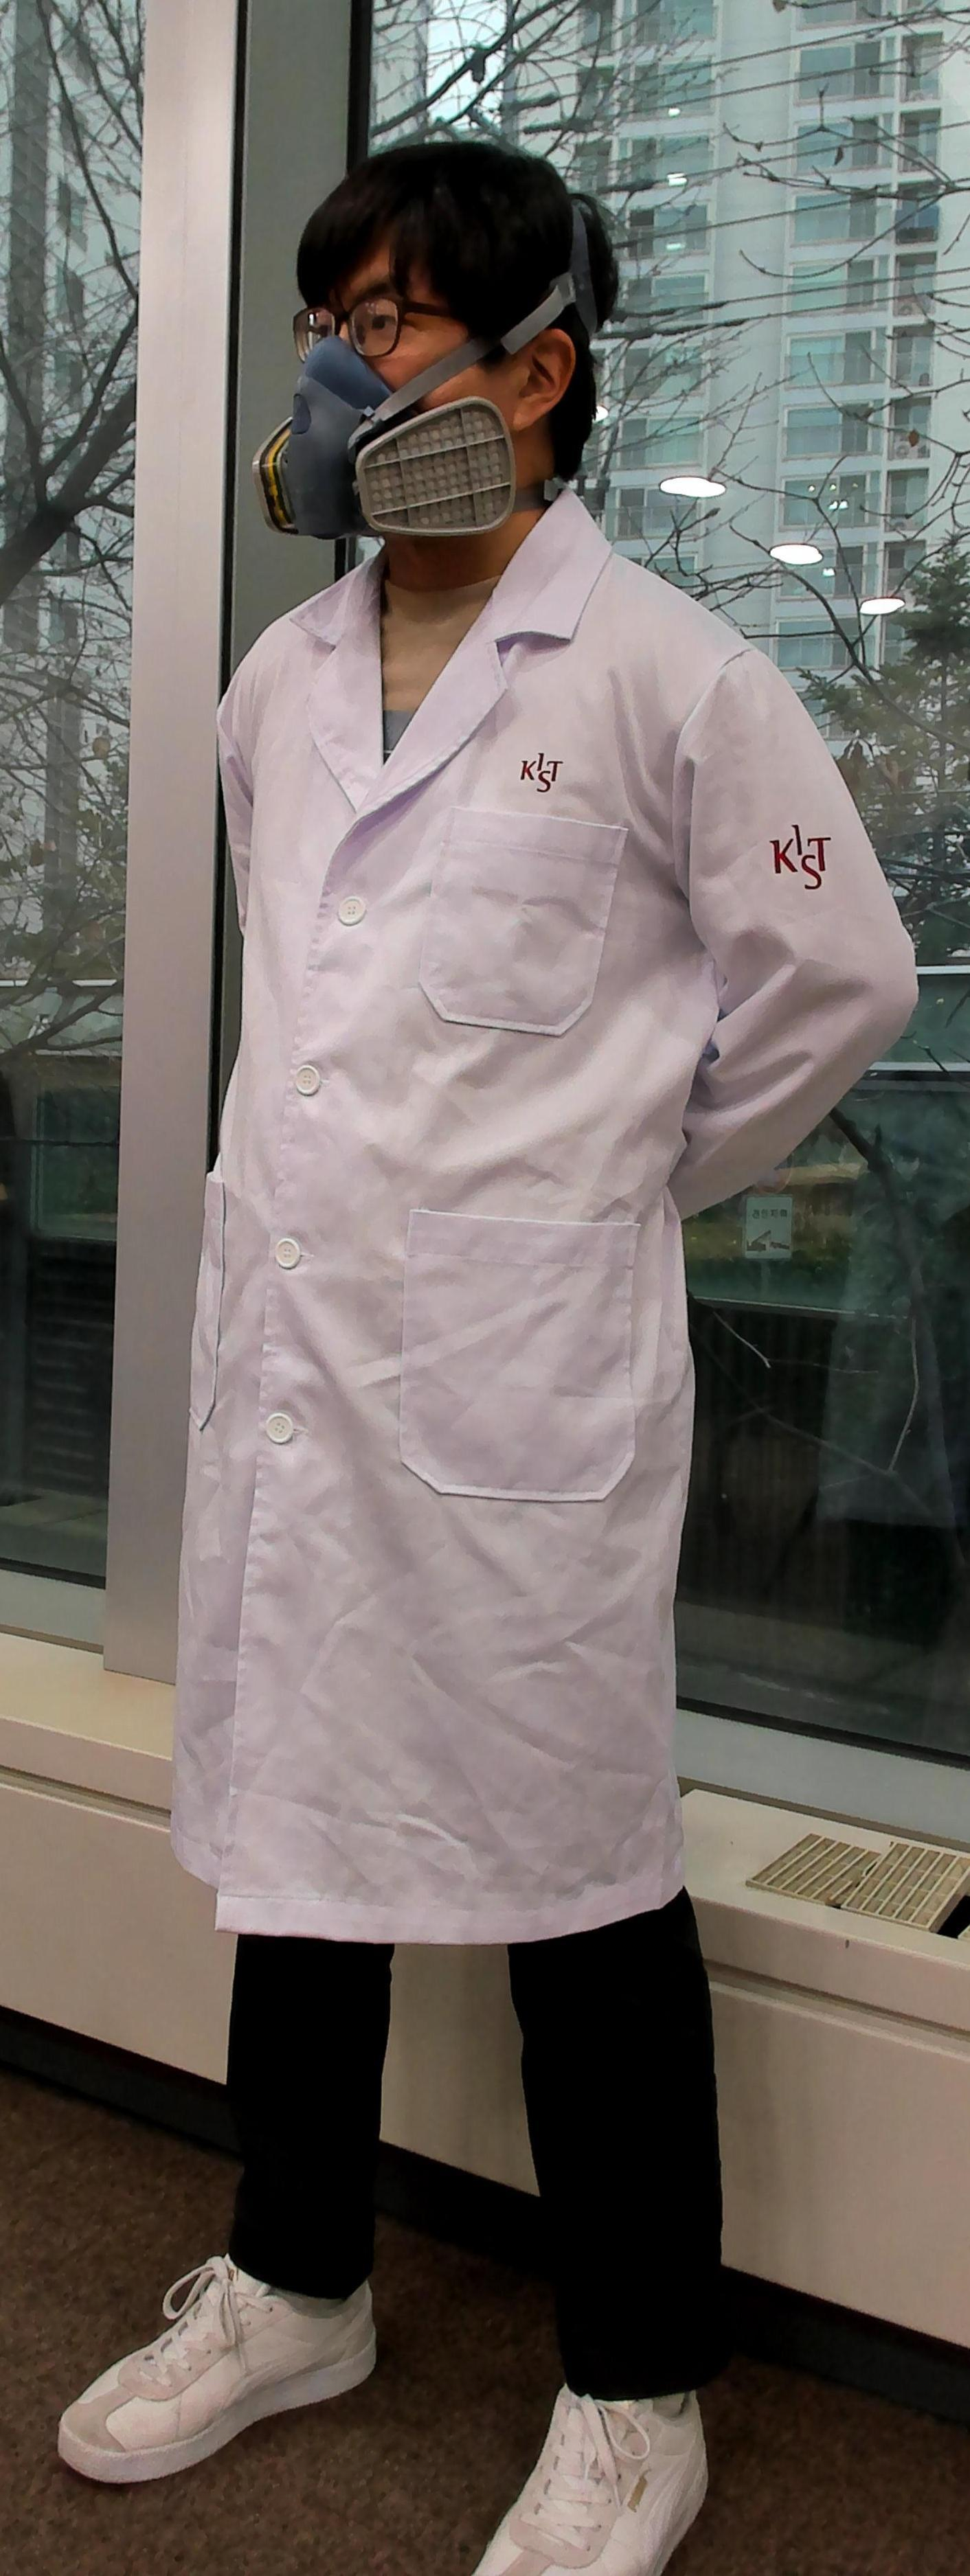lab_coat: (153, 606, 924, 1994)
